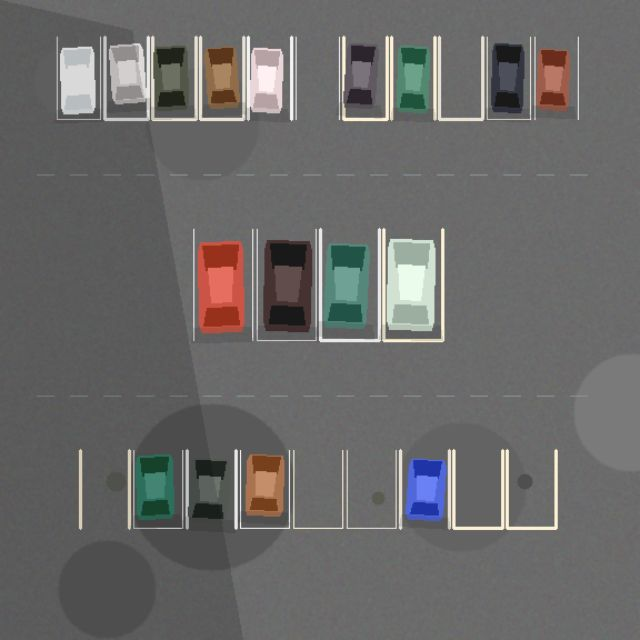space-empty: (80, 450, 129, 528), (293, 450, 342, 528), (347, 450, 396, 528), (453, 450, 502, 528), (507, 450, 556, 528), (296, 37, 339, 119), (439, 37, 482, 119)
space-occupied: (193, 229, 252, 340), (257, 229, 316, 340), (320, 229, 379, 340), (383, 229, 442, 340), (133, 450, 182, 528), (187, 450, 236, 528), (240, 450, 289, 528), (400, 450, 449, 528), (104, 37, 148, 119), (152, 37, 196, 119), (343, 37, 387, 119), (534, 37, 578, 119), (57, 37, 100, 119), (200, 37, 243, 119), (248, 37, 291, 119), (391, 37, 434, 119), (487, 37, 530, 119)
